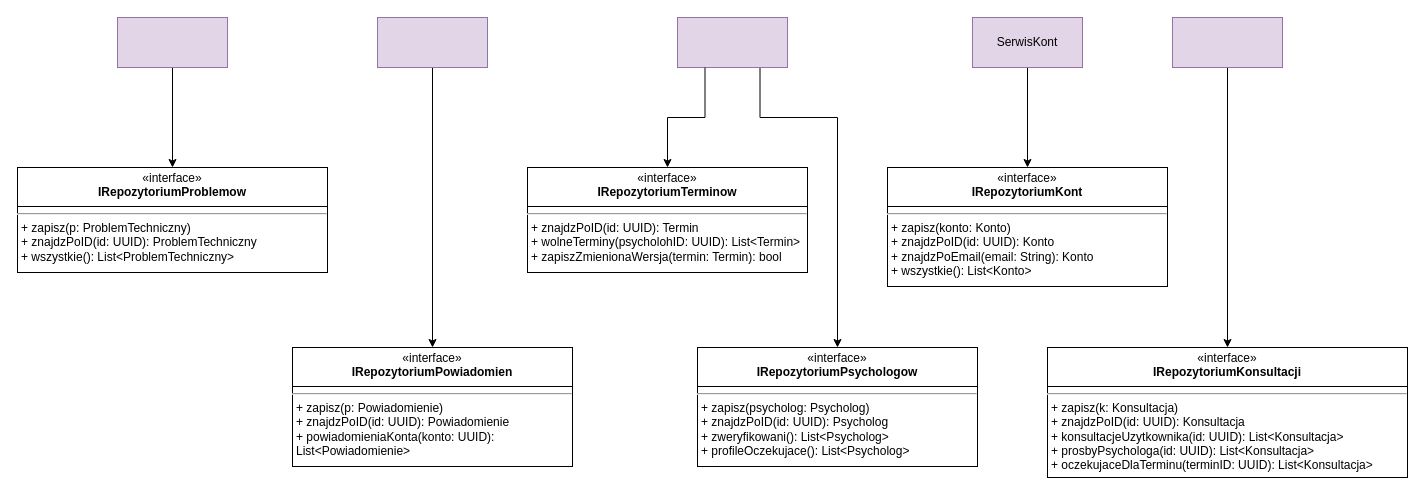
This 1425x495 diagram has some shape labels left out. The shapes that lost their labels are listed below. From the top down, each one's centre as x and y in pixels, then its label:
point (172, 42): SerwisAdministracji
point (432, 42): SerwisPowiadomien
point (732, 42): SerwisKatalogu
point (1227, 42): SerwisRezerwacji
